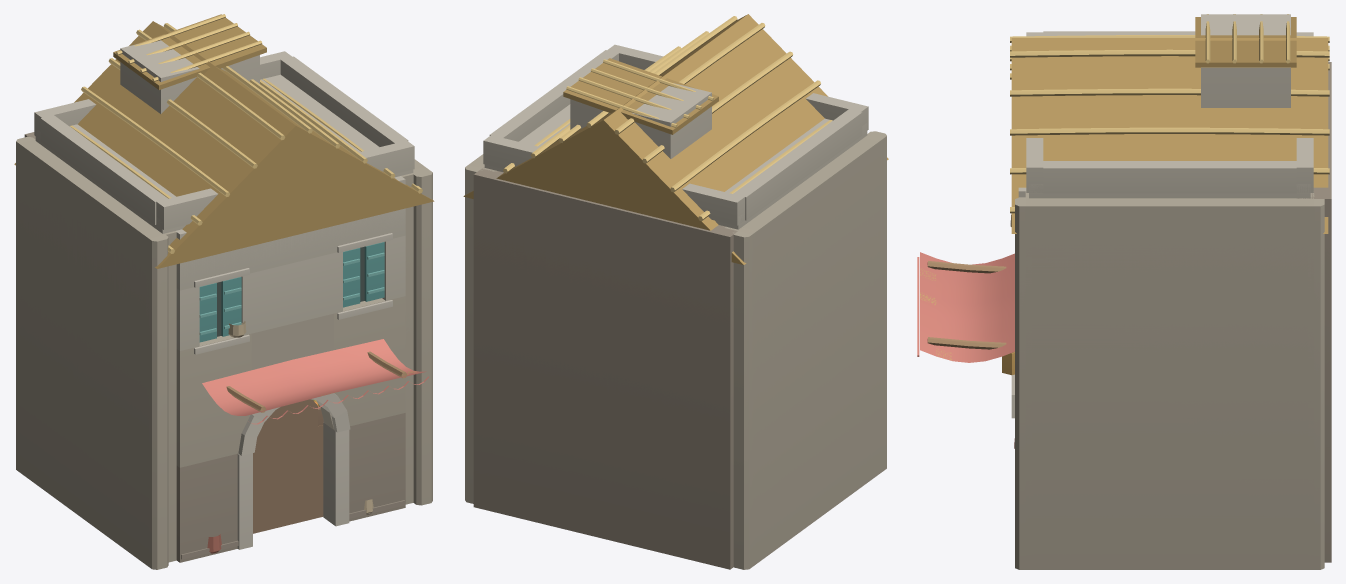
File: world04-market-kit-v1.glb
3 views of the same model, side by side, from view 1: azimuth 30°, elevation 25°; view 2: azimuth 150°, elevation 25°; view 3: azimuth 270°, elevation 25° (orthographic). The views are drawn at different scales.
Visible parts, largest first — view 1: house-terrace_geometry, house-gable_geometry; view 2: house-terrace_geometry, house-gable_geometry; view 3: house-terrace_geometry, house-gable_geometry.
Boxes of the visible parts, x1=… form: house-terrace_geometry: x1=16, y1=14, x2=432, y2=569; house-gable_geometry: x1=14, y1=21, x2=434, y2=569; house-terrace_geometry: x1=465, y1=44, x2=886, y2=569; house-gable_geometry: x1=463, y1=14, x2=888, y2=569; house-terrace_geometry: x1=917, y1=14, x2=1331, y2=569; house-gable_geometry: x1=920, y1=35, x2=1331, y2=569.
Size of the model in its own units: 5.1 by 7.27 by 5.89.
